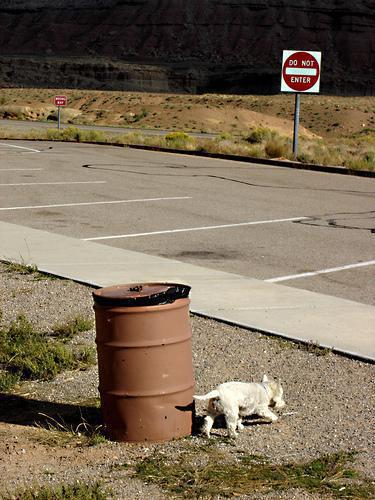Bote de Basura: (100, 278, 192, 446)
